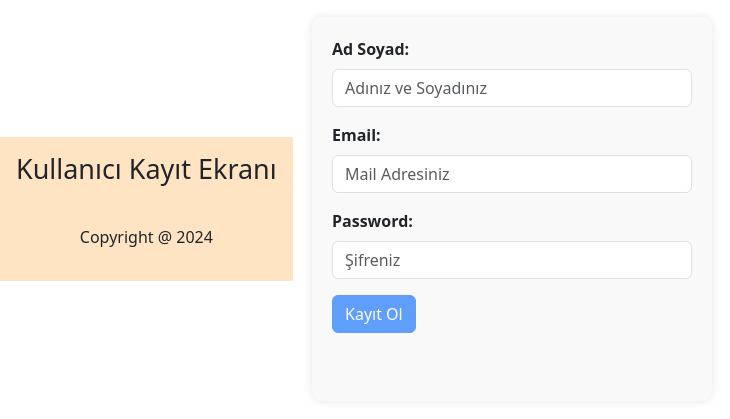
Test case: ID Ekrana Yaz › Form doldurulduktan sonra ID ekranda görülmeli
Type "alicanS@workintech.com" into the field with id "exampleEmail". click: (512, 174)
box: [332,155,692,193]
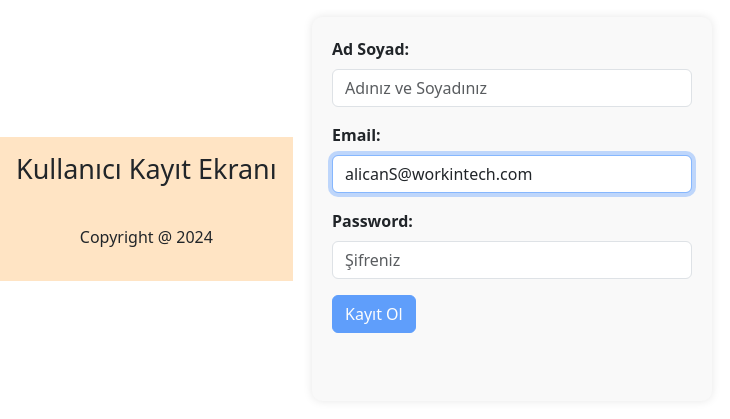
Type "1453acs" into the password field with id "examplePassword". click: (512, 260)
box: [332,241,692,279]
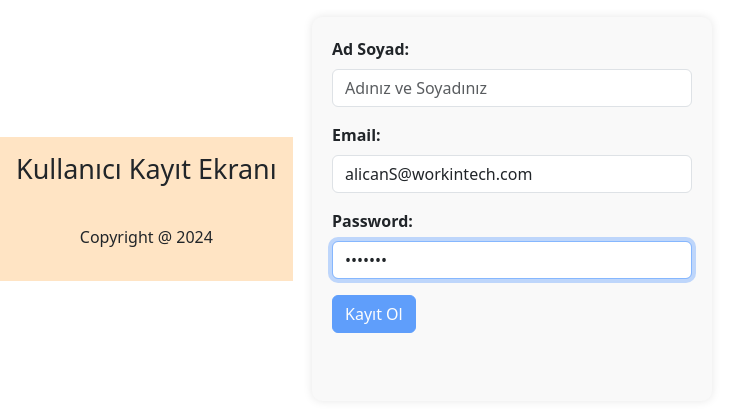
Type "Ali Can" into the field with id "exampleAdsoyad". click: (512, 88)
box: [332,69,692,107]
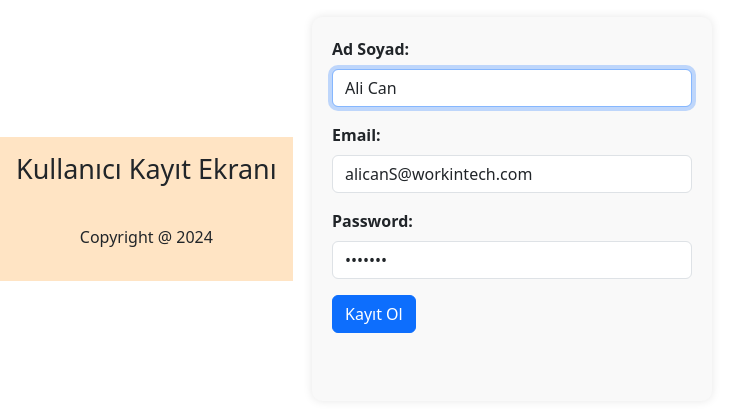
Click the button "Kayıt Ol". click: (374, 314)
box: [332,295,416,333]
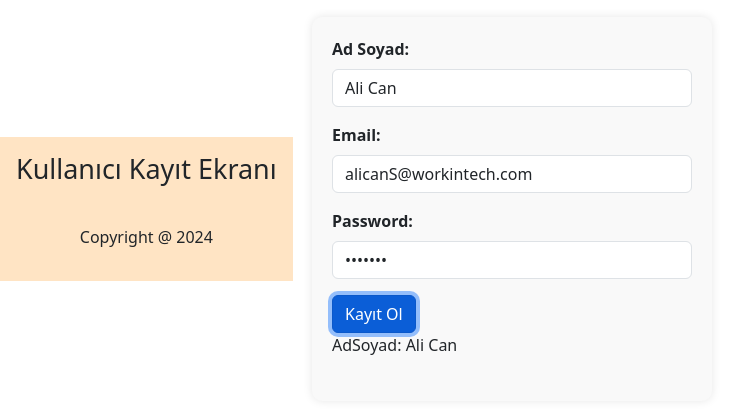
expect the text "AdSoyad" is shown: met, box [332,334,406,356]
